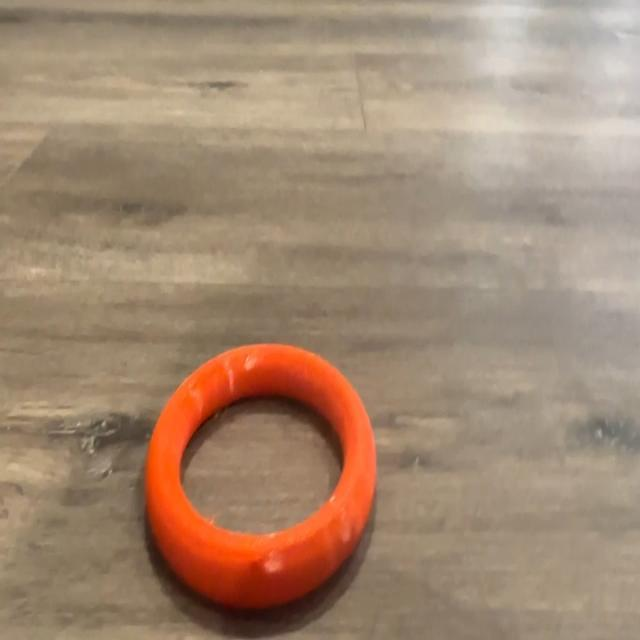note: (145, 339, 379, 619)
